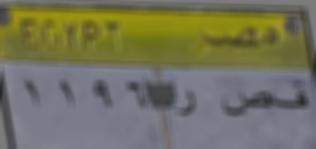1: (17, 71, 45, 114), (56, 74, 81, 117)
6: (123, 75, 148, 113)
9: (91, 75, 115, 115)
faa: (275, 79, 311, 111)
raa: (173, 85, 201, 124)
saad: (218, 85, 273, 119)
